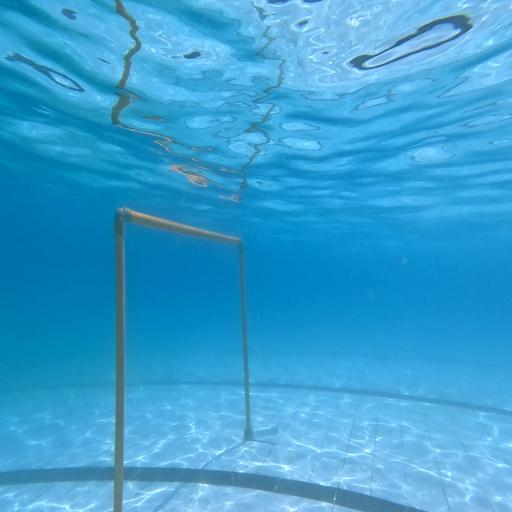gate: (114, 206, 277, 512)
